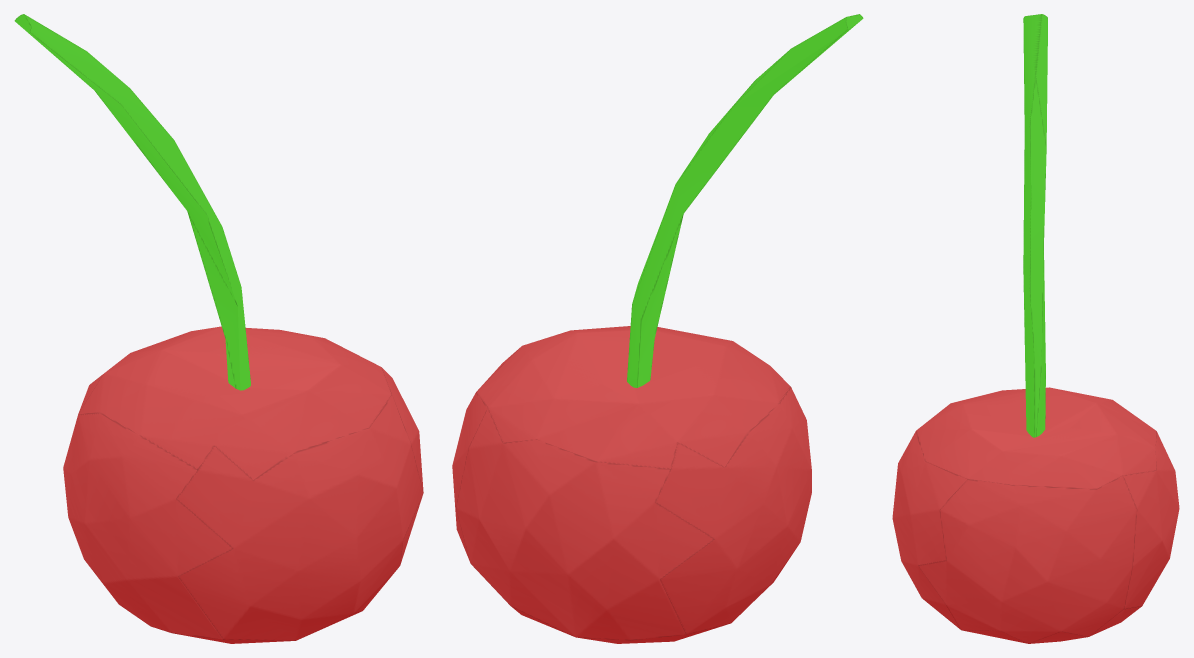
Rendered from SingleCherry.fbx.
The picture shows the model from 3 angles, left to right: view 1: azimuth 30°, elevation 25°; view 2: azimuth 150°, elevation 25°; view 3: azimuth 270°, elevation 25°; orthographic projection. The views are drawn at different scales.
Parts seen in each view (by area): view 1: SingleCherry; view 2: SingleCherry; view 3: SingleCherry.
Boxes of the visible parts, left/top/right/bottom form: SingleCherry: left=14, top=14, right=423, bottom=643; SingleCherry: left=452, top=14, right=863, bottom=643; SingleCherry: left=892, top=14, right=1179, bottom=643.
Bounding box in the file's own units: 233 × 385 × 192.
